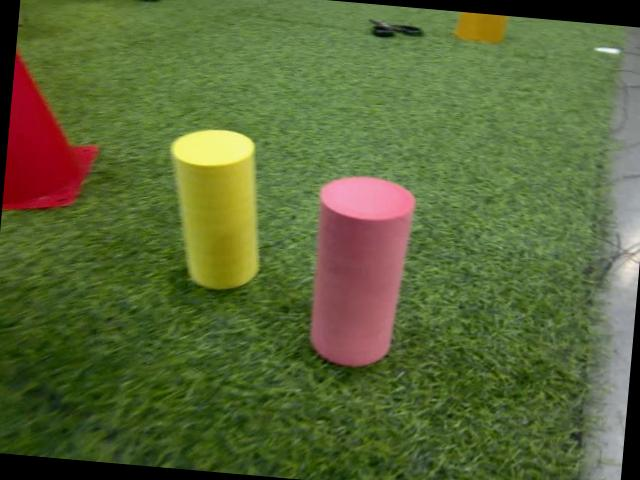red_barrel: (1, 38, 110, 222)
red_cylinder: (304, 170, 414, 374)
yellow_cylinder: (156, 123, 276, 294)
